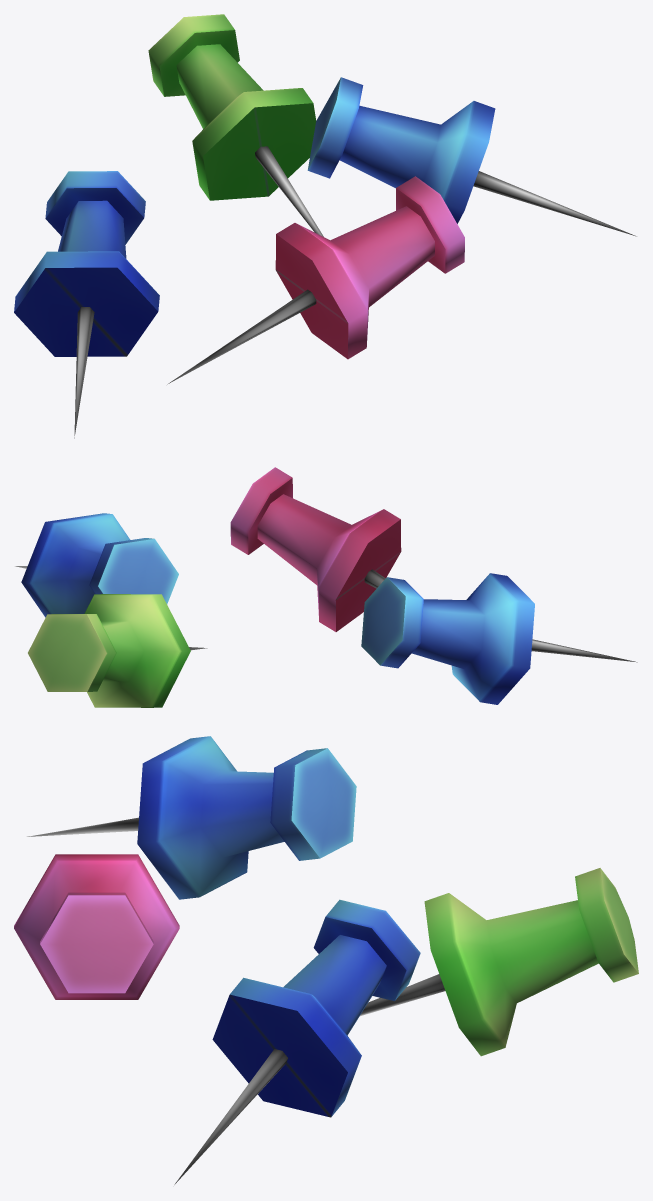
The model's file is ShaShouJia_01_datouzhen_01.FBX.
3 views of the same model, one above another, from view 1: azimuth 30°, elevation 25°; view 2: azimuth 150°, elevation 25°; view 3: azimuth 270°, elevation 25° (orthographic). The views are drawn at different scales.
Visible parts, largest first — view 1: ShaShouJia_01_datouzhen_01; view 2: ShaShouJia_01_datouzhen_01; view 3: ShaShouJia_01_datouzhen_01.
Boxes of the visible parts, x1,y1,x2,y2 form: ShaShouJia_01_datouzhen_01: (14, 14, 636, 438); ShaShouJia_01_datouzhen_01: (15, 467, 637, 707); ShaShouJia_01_datouzhen_01: (14, 736, 638, 1184).
Size of the model in its own units: 98.68 by 22.44 by 74.32.
